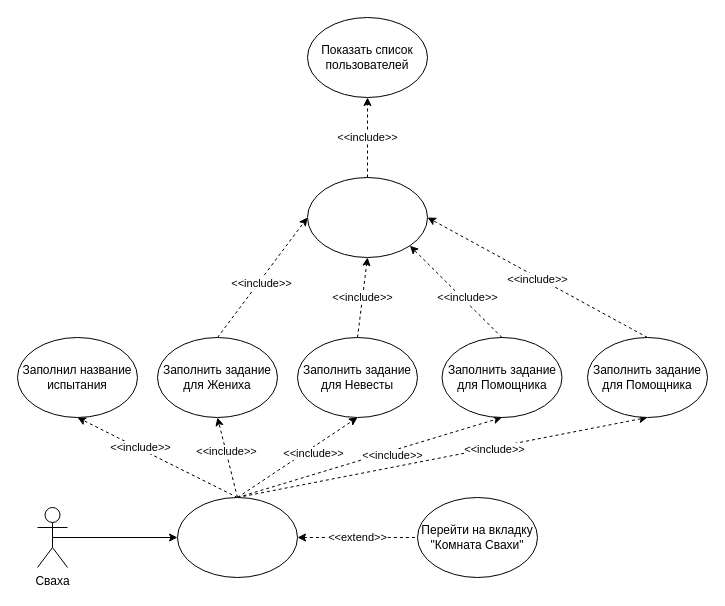
Image size: 725x606. Some labels were removed from this diagram. Here are the shapes that lost their labels. From the top down, the centre of each, then its label:
At point 367,217: "Назначить исполнителя".
At point 237,537: "Создать испытание".
